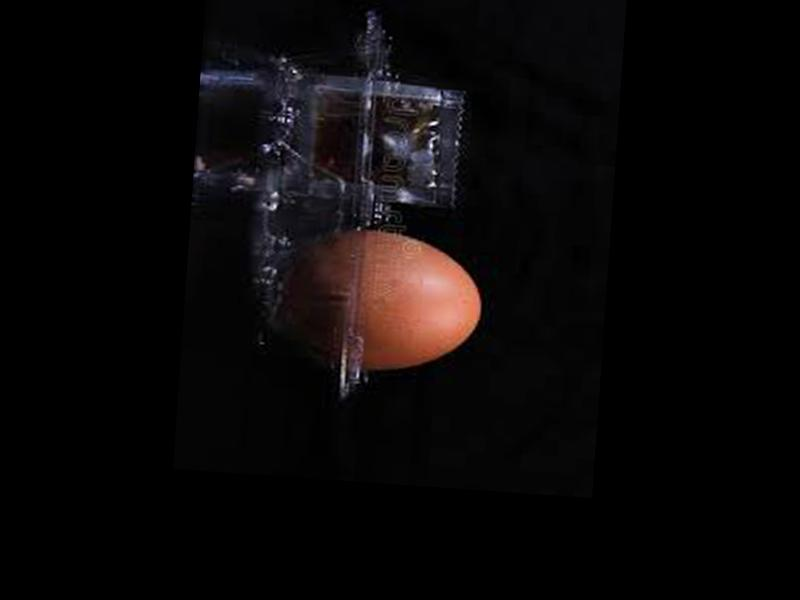Eggs: (269, 225, 485, 379)
